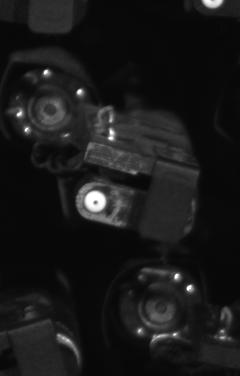fiber: (78, 186, 113, 217)
